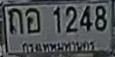1: (53, 6, 60, 32)
2: (66, 6, 76, 31)
4: (79, 5, 91, 30)
8: (94, 5, 106, 30)
A22: (7, 8, 23, 34)
A43: (25, 8, 40, 32)
BKK: (20, 39, 97, 55)
